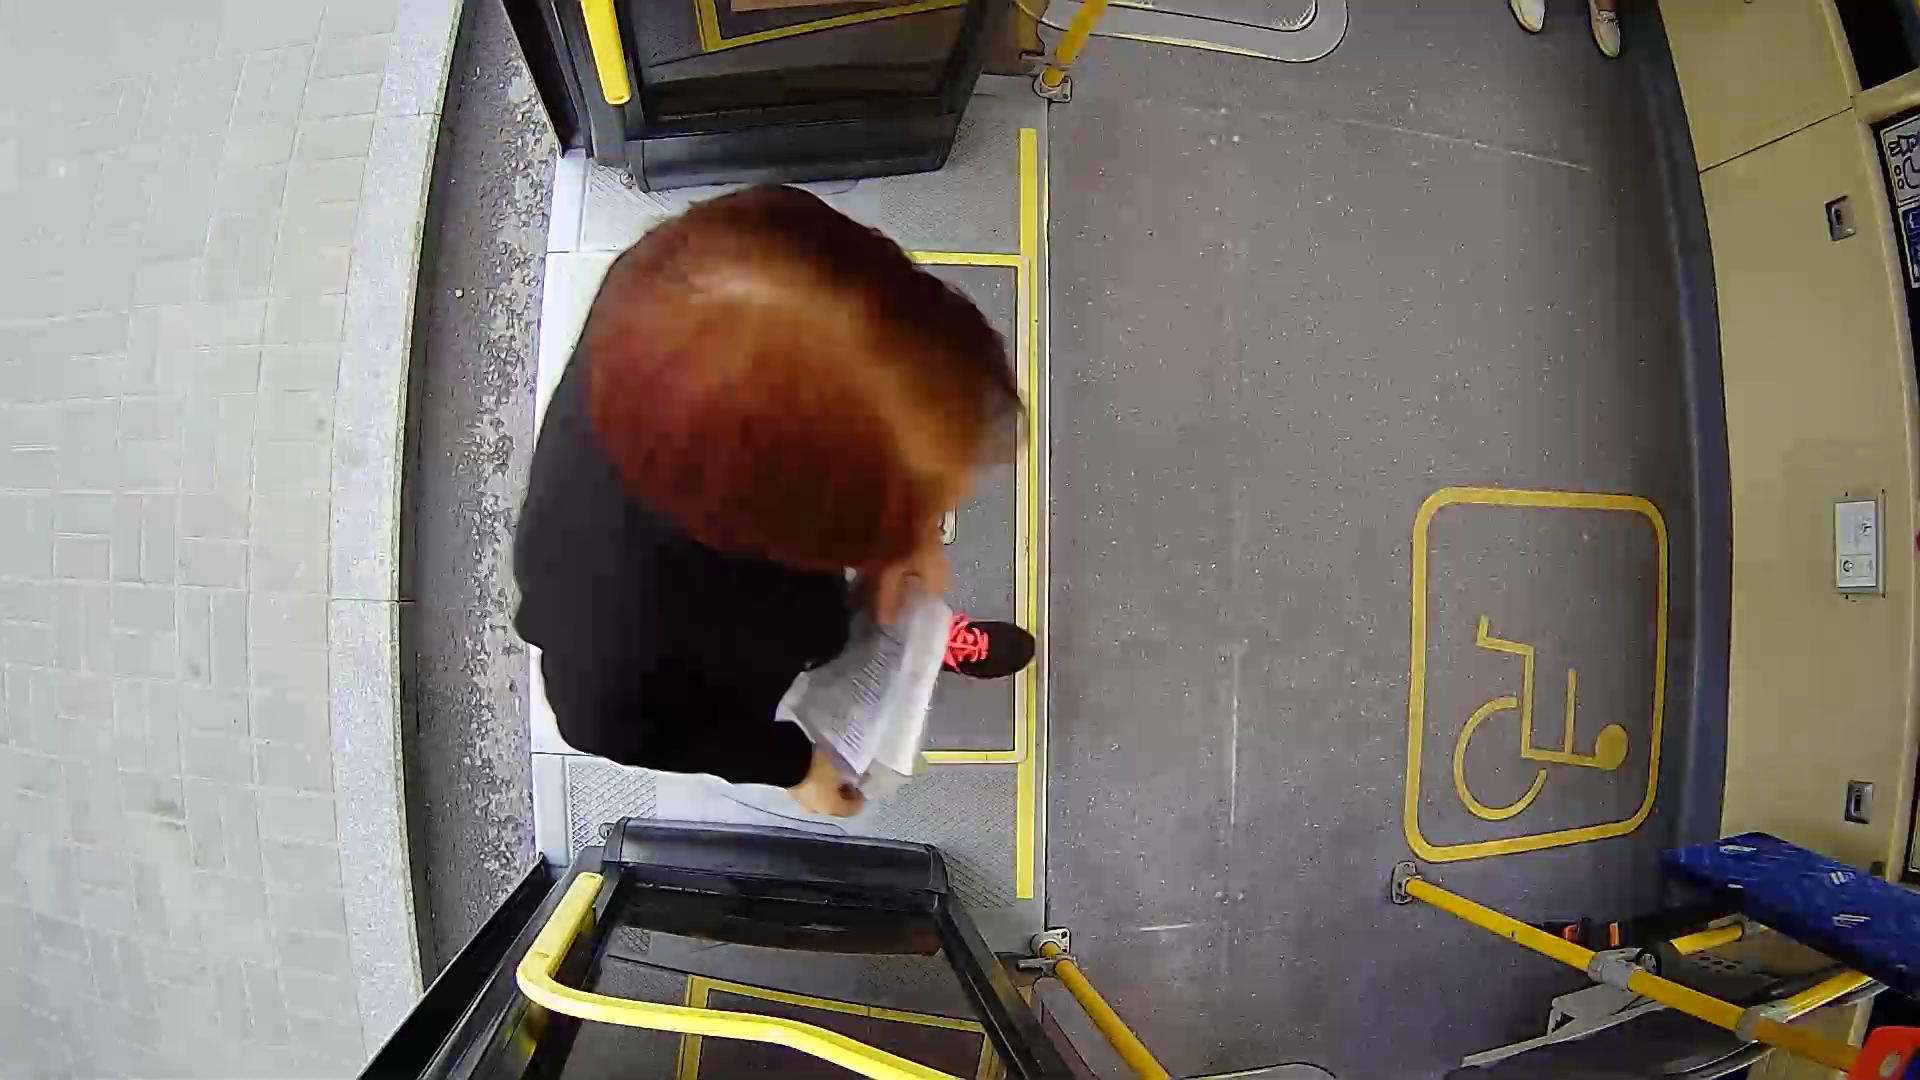person: (470, 201, 1110, 841)
